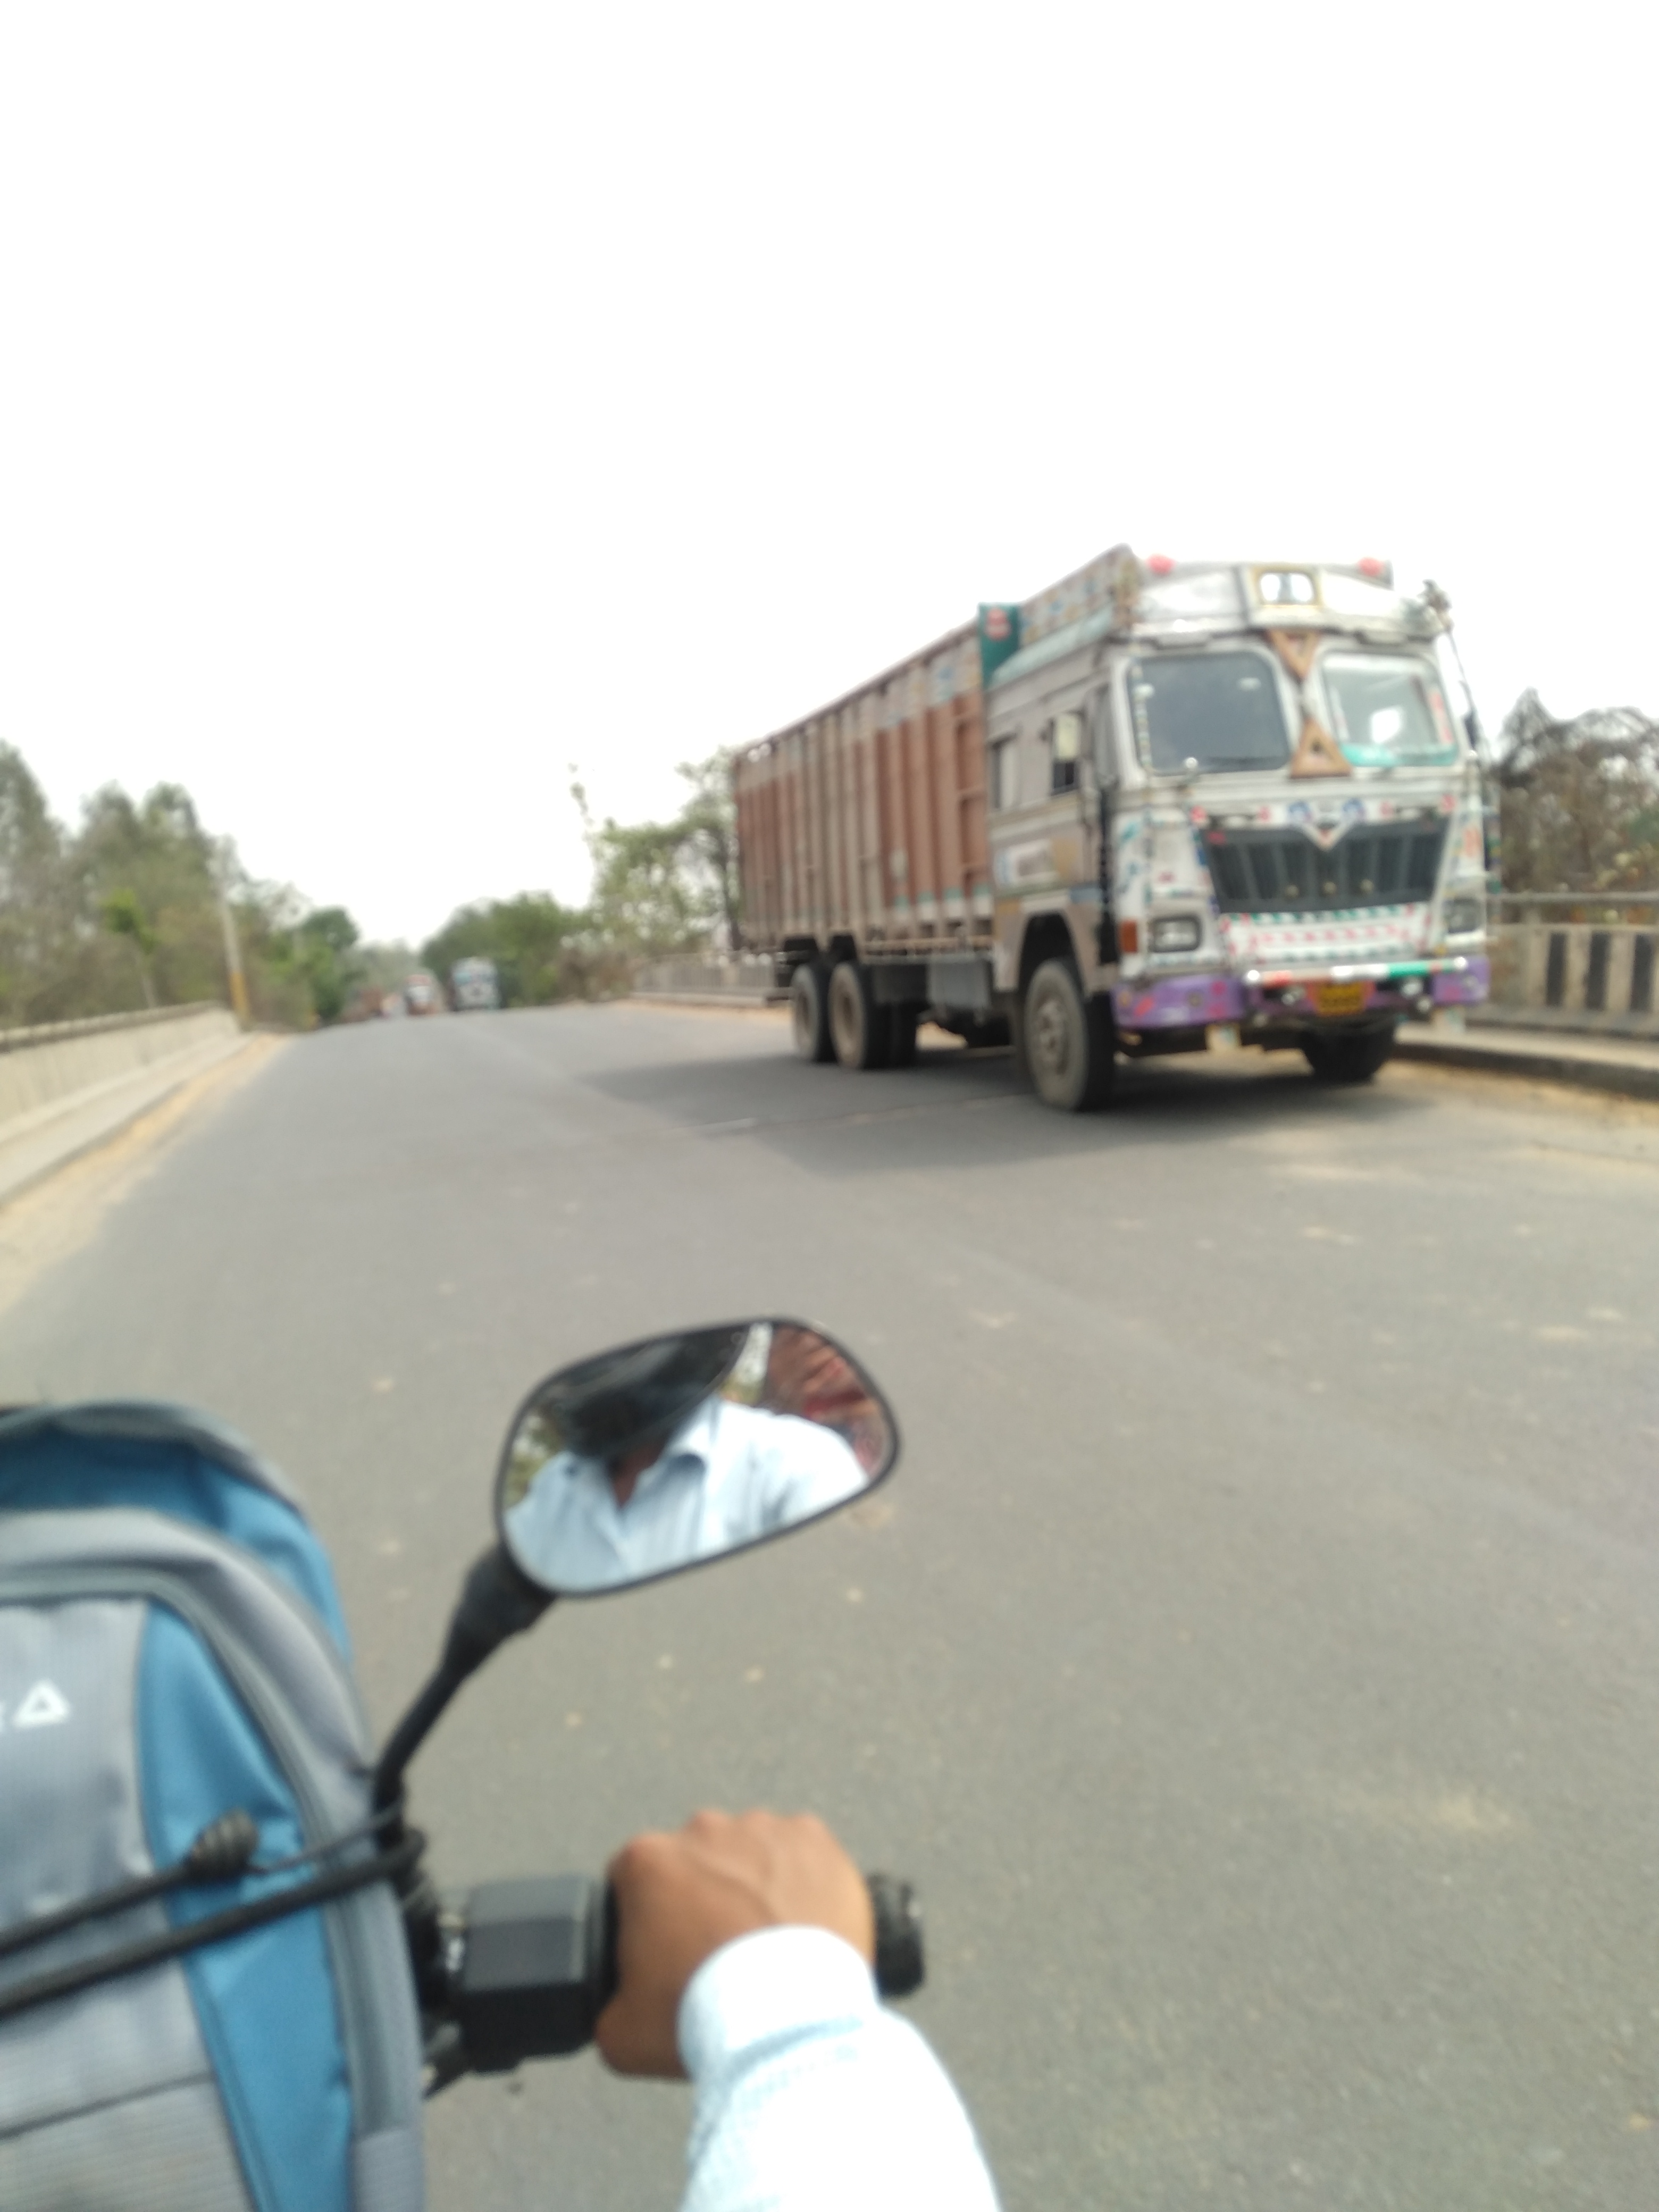truck: (723, 540, 1506, 1115), (446, 954, 502, 1012)
